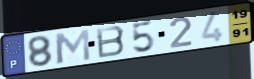2: (169, 15, 194, 50)
4: (199, 9, 226, 44)
5: (130, 19, 157, 54)
8: (26, 33, 55, 69)
B: (95, 25, 127, 60)
M: (52, 27, 93, 65)
